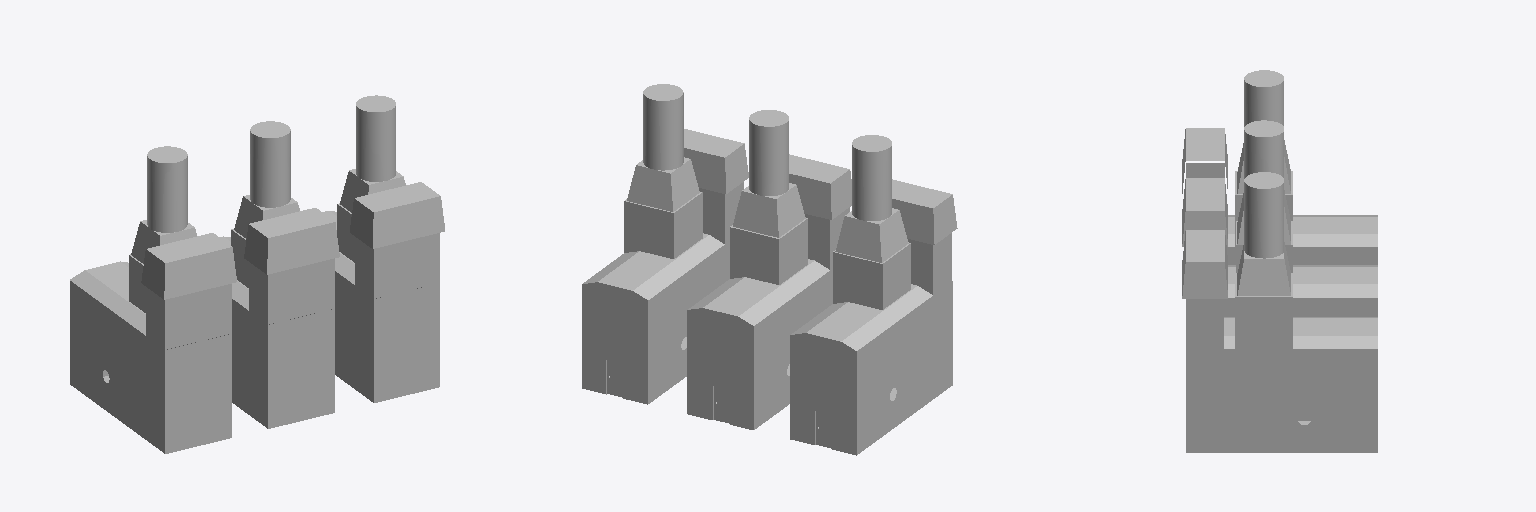
The model's file is compressor_station_builds.obj.
3 views of the same model, side by side, from view 1: azimuth 30°, elevation 25°; view 2: azimuth 150°, elevation 25°; view 3: azimuth 270°, elevation 25° (orthographic).
Visible parts, largest first — view 1: obj1; view 2: obj1; view 3: obj1.
Part boxes in pixels (x1,y1,x2,y2): obj1: (70, 95, 444, 453); obj1: (582, 84, 957, 455); obj1: (1182, 70, 1377, 452).
Bounding box in the file's own units: 16.94 × 15 × 10.2.